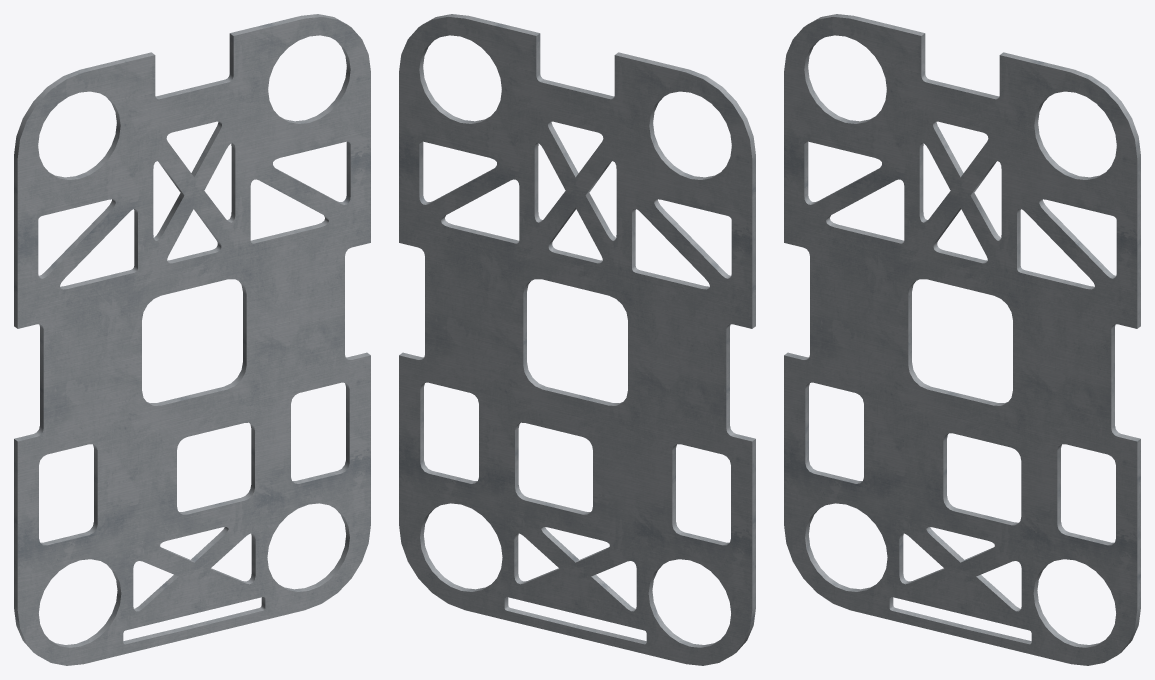
File: robot_frame.gltf
3 renders of one model, left to right at view 1: azimuth 30°, elevation 25°; view 2: azimuth 150°, elevation 25°; view 3: azimuth 330°, elevation 25°, orthographic.
Parts seen in each view (by area): view 1: Frame; view 2: Frame; view 3: Frame.
Boxes of the visible parts, x1,y1,x2,y2 form: Frame: [14, 14, 370, 665]; Frame: [399, 14, 755, 665]; Frame: [784, 14, 1140, 665].
Size of the model in its own units: 0.4279 by 0.685 by 0.008.
Materials: 1 (1 with a texture image).
